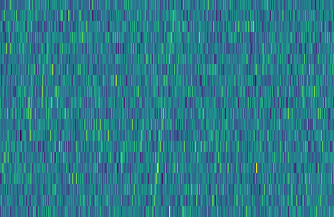signal: (148, 0, 179, 217)
